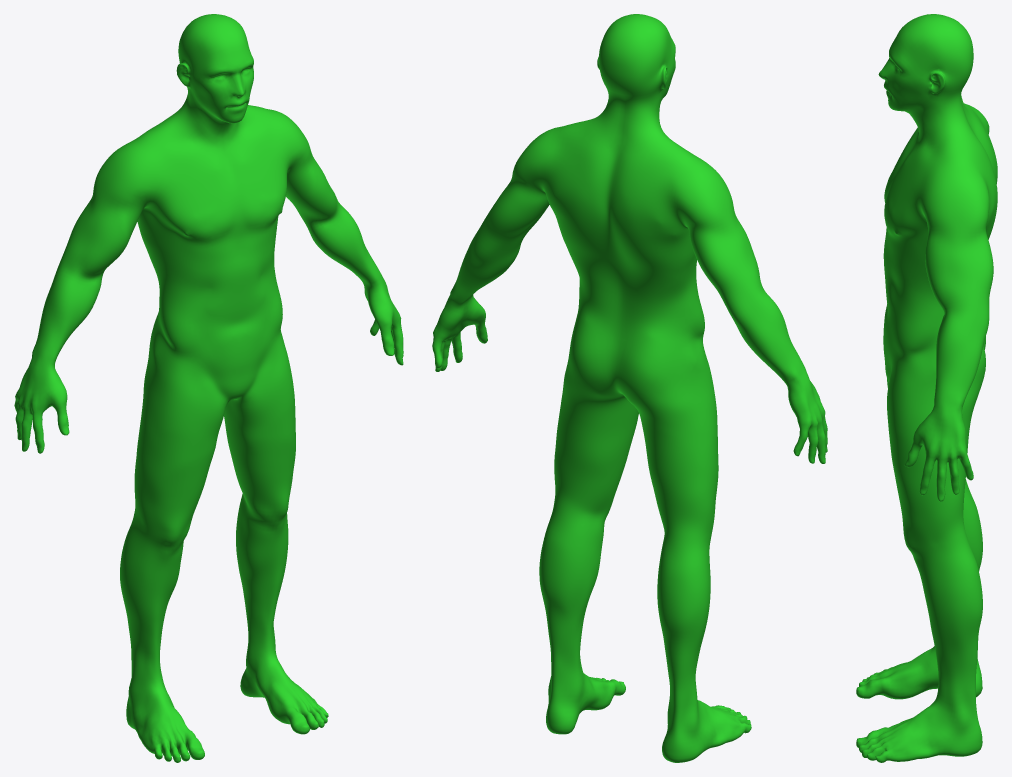
The model's file is human.FBX.
3 views of the same model, side by side, from view 1: azimuth 30°, elevation 25°; view 2: azimuth 150°, elevation 25°; view 3: azimuth 270°, elevation 25° (orthographic).
Parts seen in each view (by area): view 1: Group1; view 2: Group1; view 3: Group1.
Boxes of the visible parts, box(x1,y1,x2,y2) form: Group1: box(14, 14, 403, 762); Group1: box(432, 14, 827, 762); Group1: box(856, 14, 997, 762).
Size of the model in its own units: 11.69 by 20.74 by 3.77.
